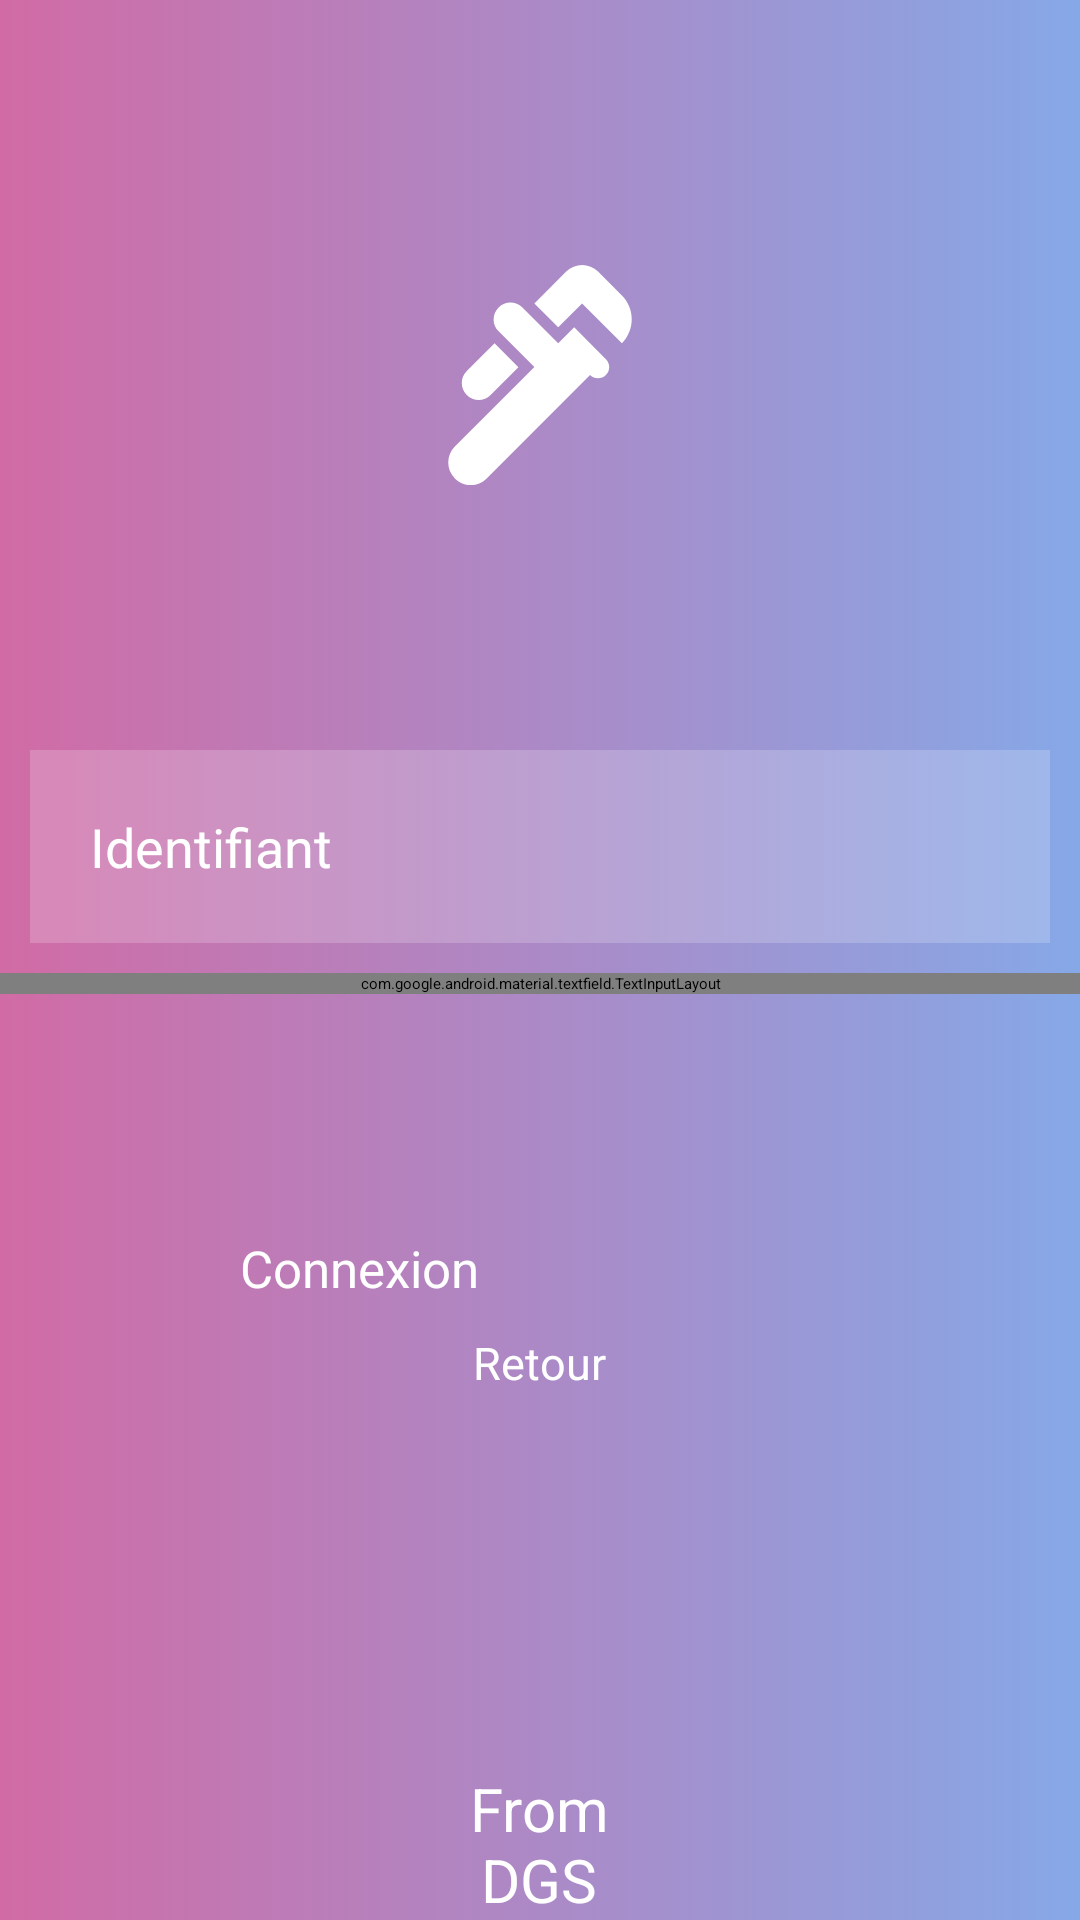

Icon bounding boxes for this 1080w x 1920h phone screenshot, format bbox(x1, y1, x2, y2):
plumbing: bbox(405, 240, 632, 510)
